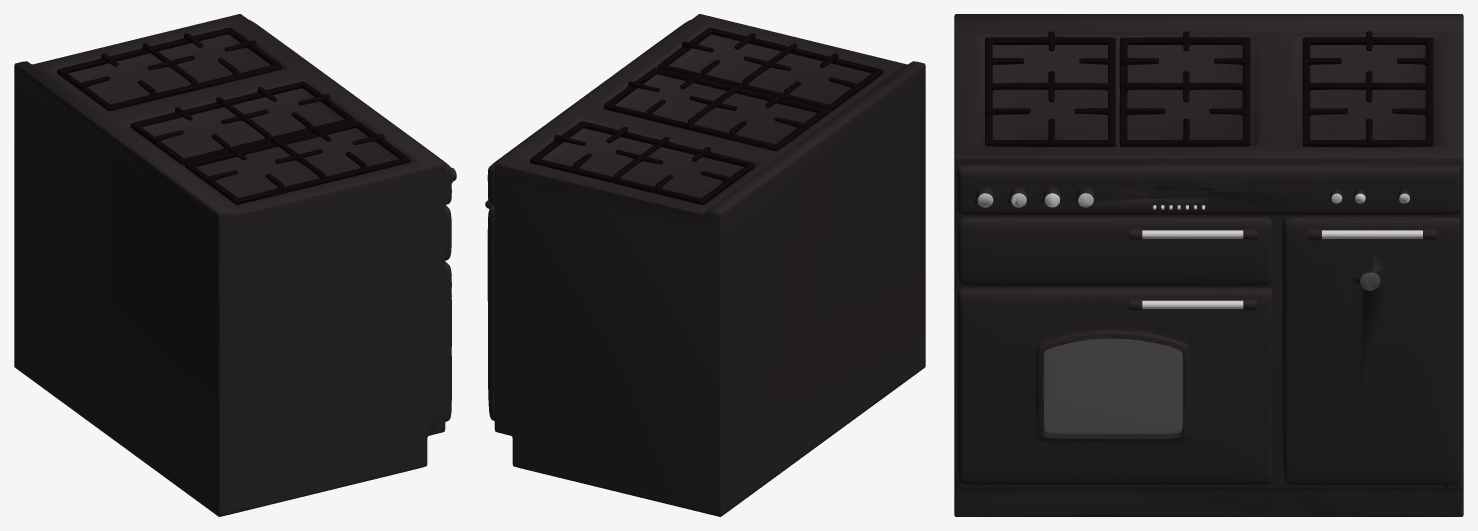
Rendered from cooker.glb.
3 views of the same model, side by side, from view 1: azimuth 30°, elevation 25°; view 2: azimuth 150°, elevation 25°; view 3: azimuth 270°, elevation 25° (orthographic). The views are drawn at different scales.
Parts seen in each view (by area): view 1: CookerIron; view 2: CookerIron; view 3: CookerIron, CookerGlass.
Part boxes in pixels (x1,y1,x2,y2): CookerIron: [14, 14, 456, 516]; CookerIron: [485, 14, 925, 516]; CookerIron: [954, 14, 1463, 516]; CookerGlass: [1044, 273, 1379, 434].
Size of the model in its own units: 0.8768 by 1.03 by 1.26.
2 materials, 2 textured.
